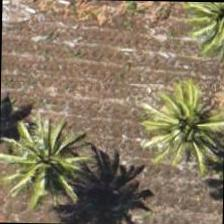Kelapa_Sawit: (0, 122, 90, 215), (146, 76, 223, 168), (178, 1, 223, 62)
